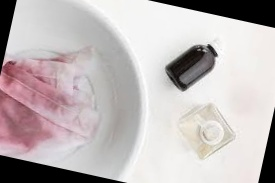wine: (0, 56, 96, 172)
